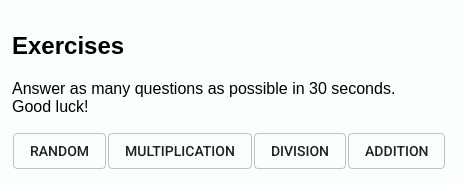
Test: <BasicMath /> › renders the addition form
This screenshot has width=462, height=186.
Click the button "Random".
click(60, 151)  # box [13,133,106,169]
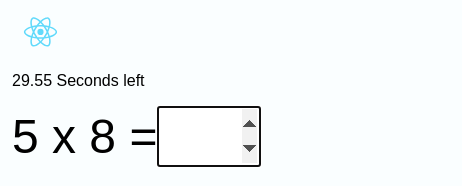
Check: the number of number fields is 1, box [157,106,261,167]
